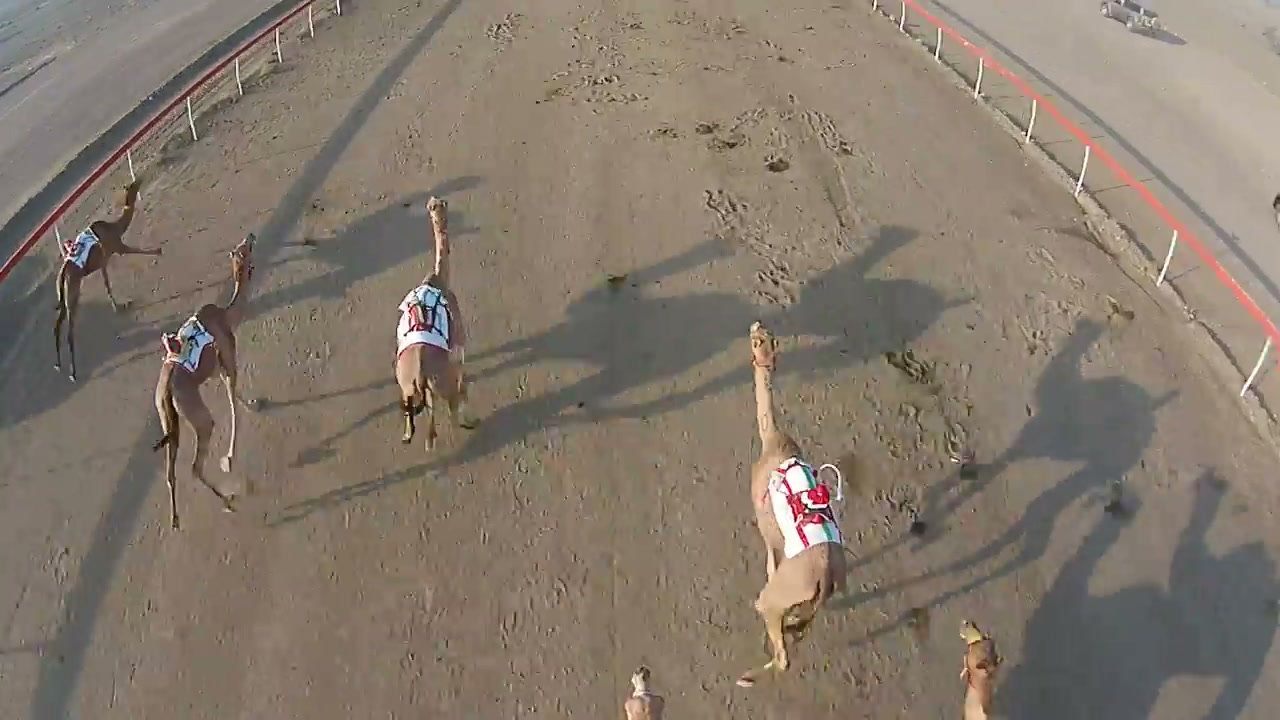animal_foot_print: (122, 495, 257, 719), (497, 347, 577, 713), (388, 466, 479, 697)
